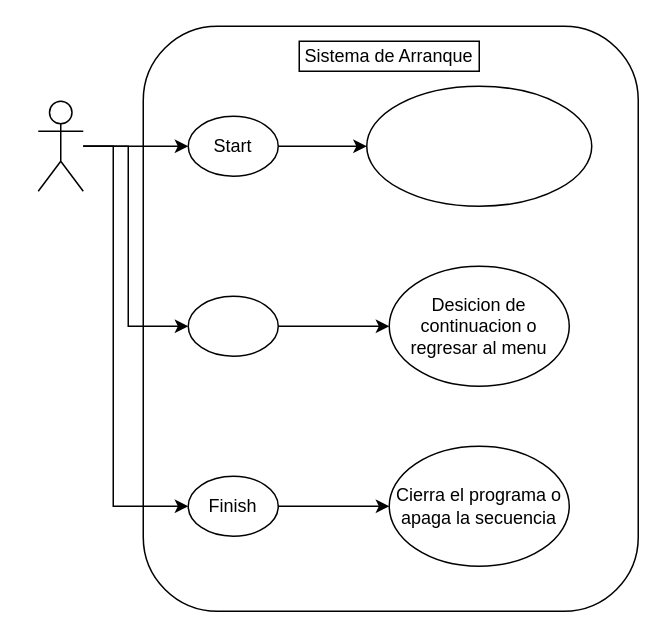
Image size: 665x638. Some labels were removed from this diagram. The centre of each missing label's shape, as x and y in pixels:
Operario: (60,145)
Stop: (232,325)
Visualizacion de la secuencia del proceso en HMI o Terminal: (478,145)
